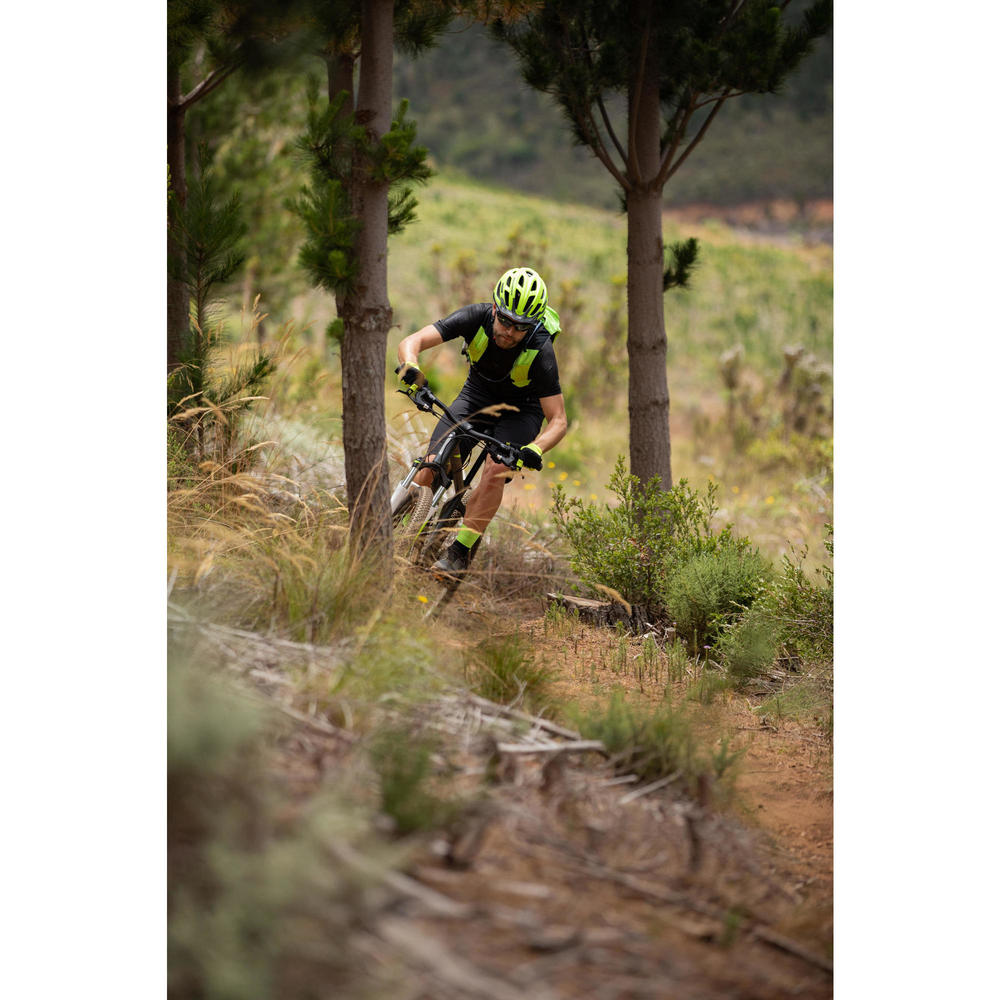MountainBike: (371, 362, 546, 648)
